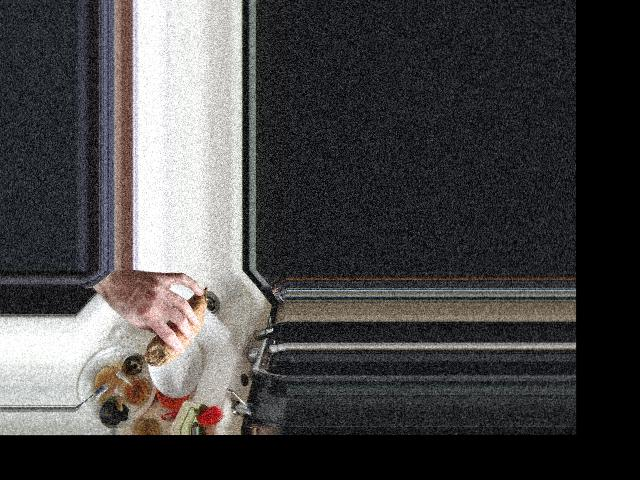sweet_potato: (145, 285, 207, 363)
